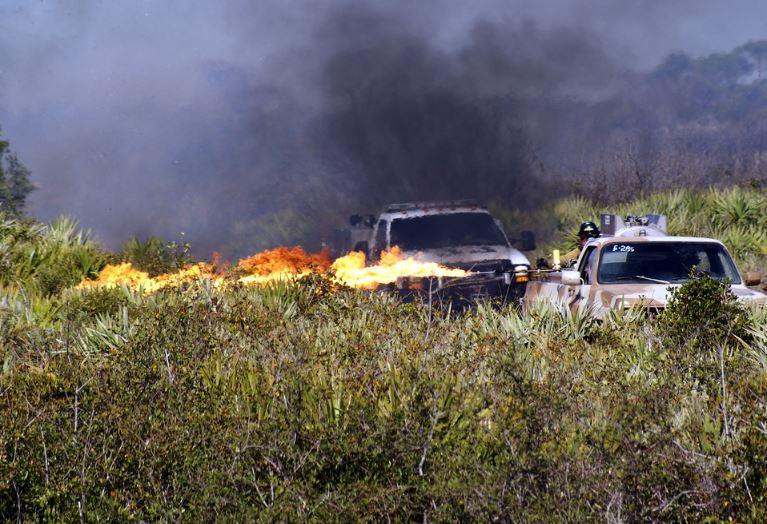fire: (75, 248, 483, 302)
